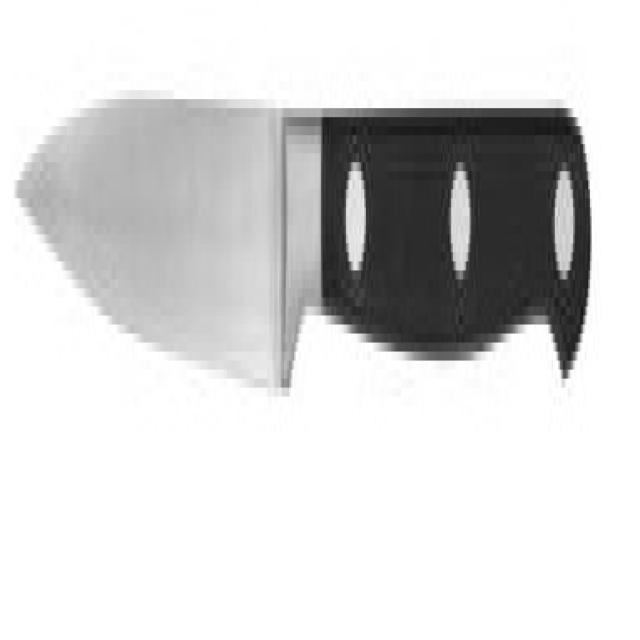knife: (12, 41, 599, 470)
